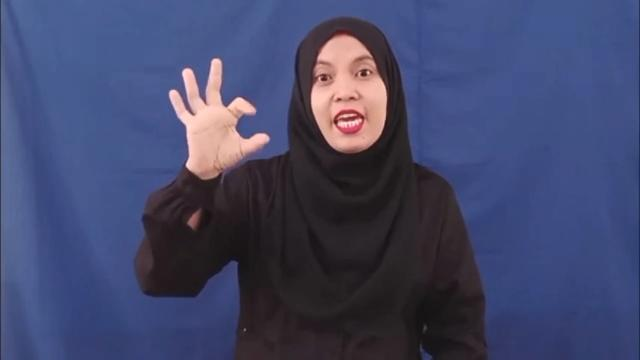F: (168, 56, 272, 170)
